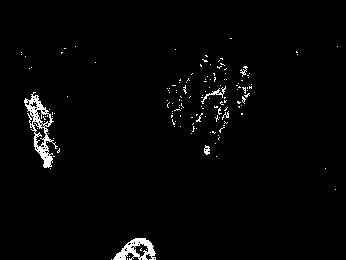person: (19, 92, 62, 168), (193, 83, 230, 152)
